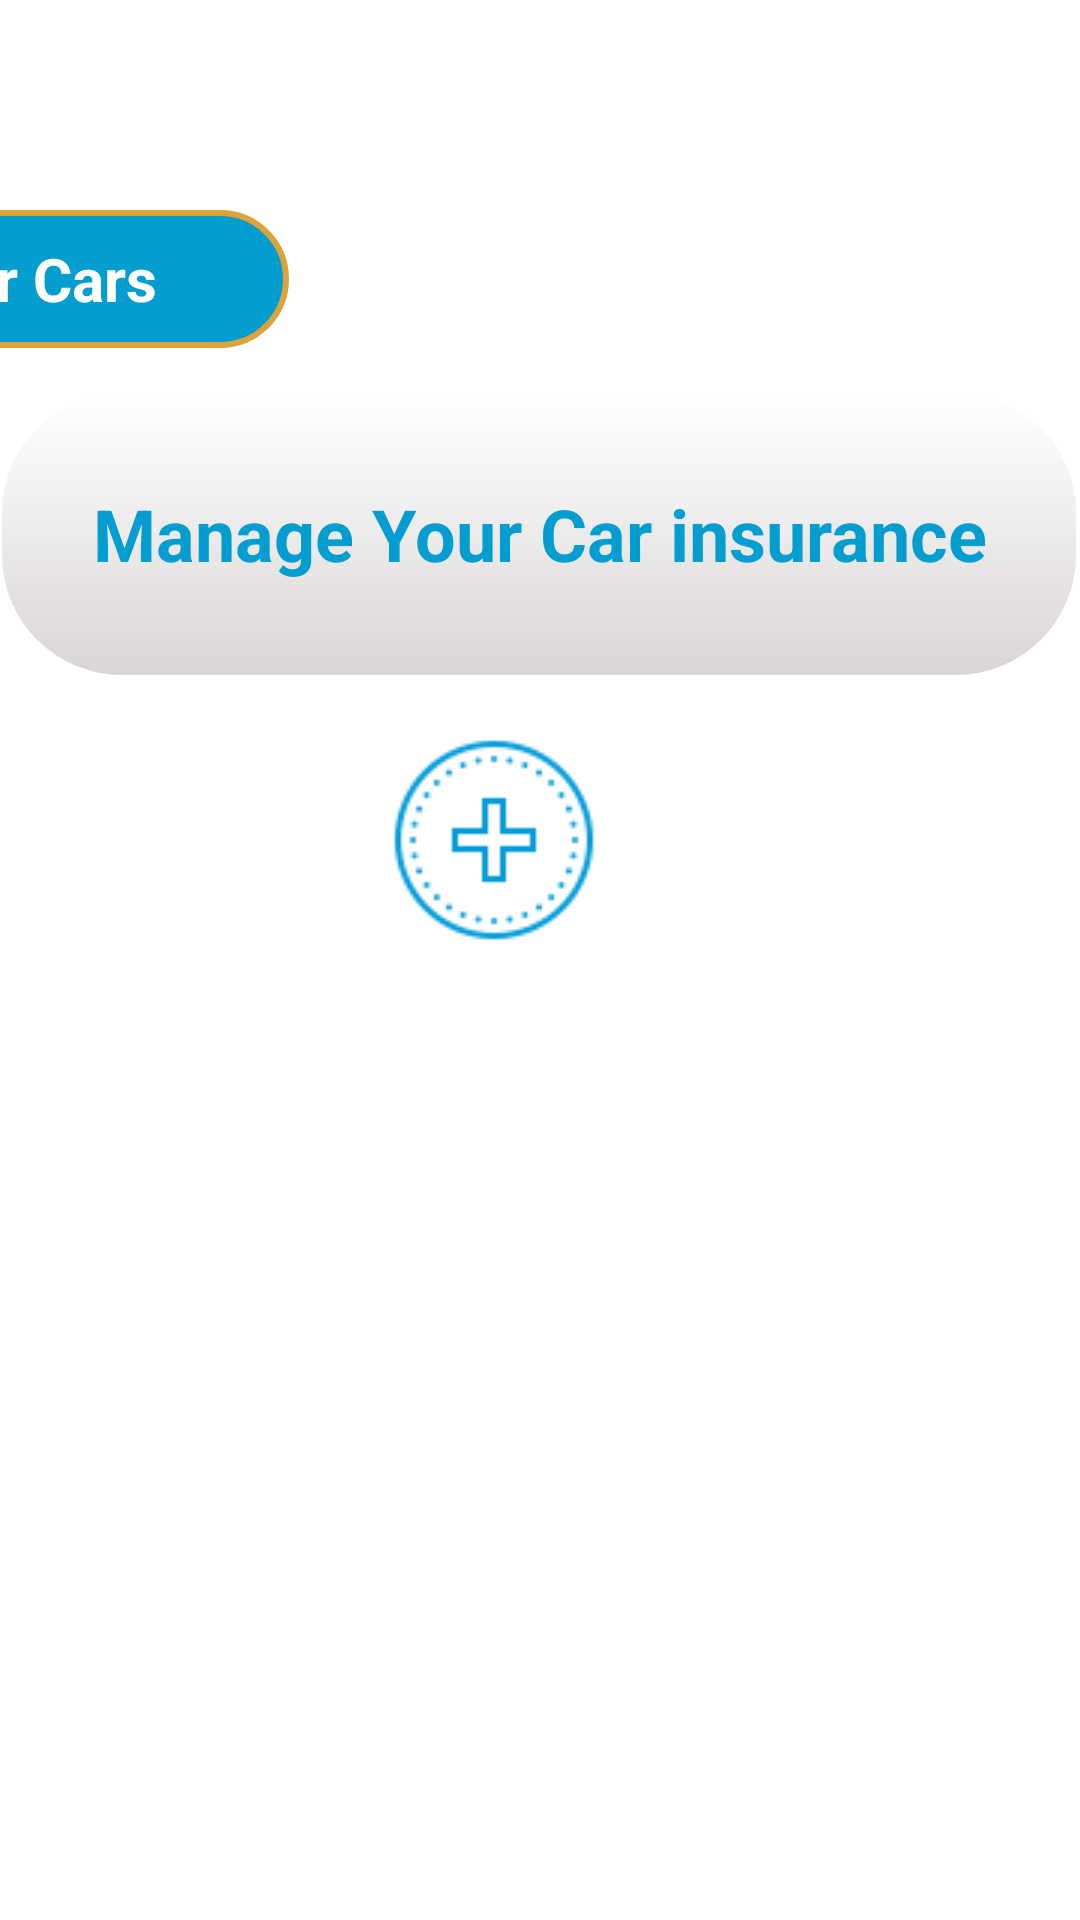

Named icons in this screenshot (1080w x 1920h) and their bounding boxes, (x1, y1, x2, y2):
add car: (394, 740, 594, 940)
